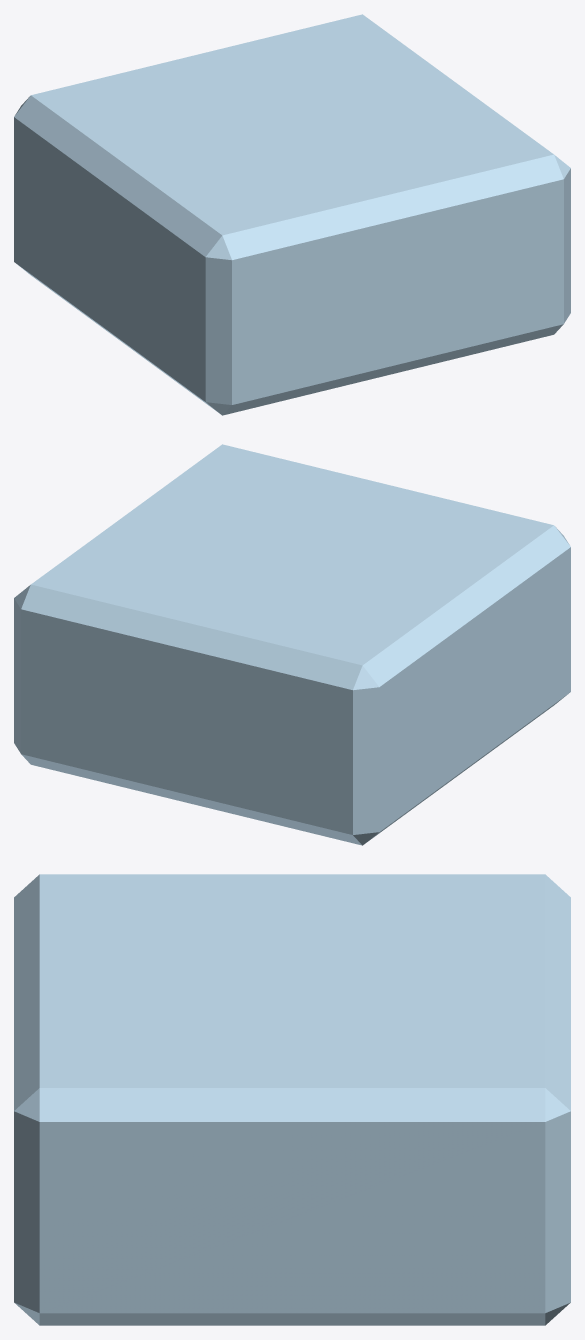
Rendered from R4B_HalfBlock_LOD1.glb.
3 views of the same model, one above another, from view 1: azimuth 30°, elevation 25°; view 2: azimuth 150°, elevation 25°; view 3: azimuth 270°, elevation 25° (orthographic). The views are drawn at different scales.
Visible parts, largest first — view 1: R4B_HalfBlock_LOD1; view 2: R4B_HalfBlock_LOD1; view 3: R4B_HalfBlock_LOD1.
Boxes of the visible parts, box(x1,y1,x2,y2) form: R4B_HalfBlock_LOD1: box(14, 14, 570, 415); R4B_HalfBlock_LOD1: box(14, 444, 570, 845); R4B_HalfBlock_LOD1: box(14, 874, 570, 1325).
Bounding box in the file's own units: 0.52 × 0.245 × 0.52.
